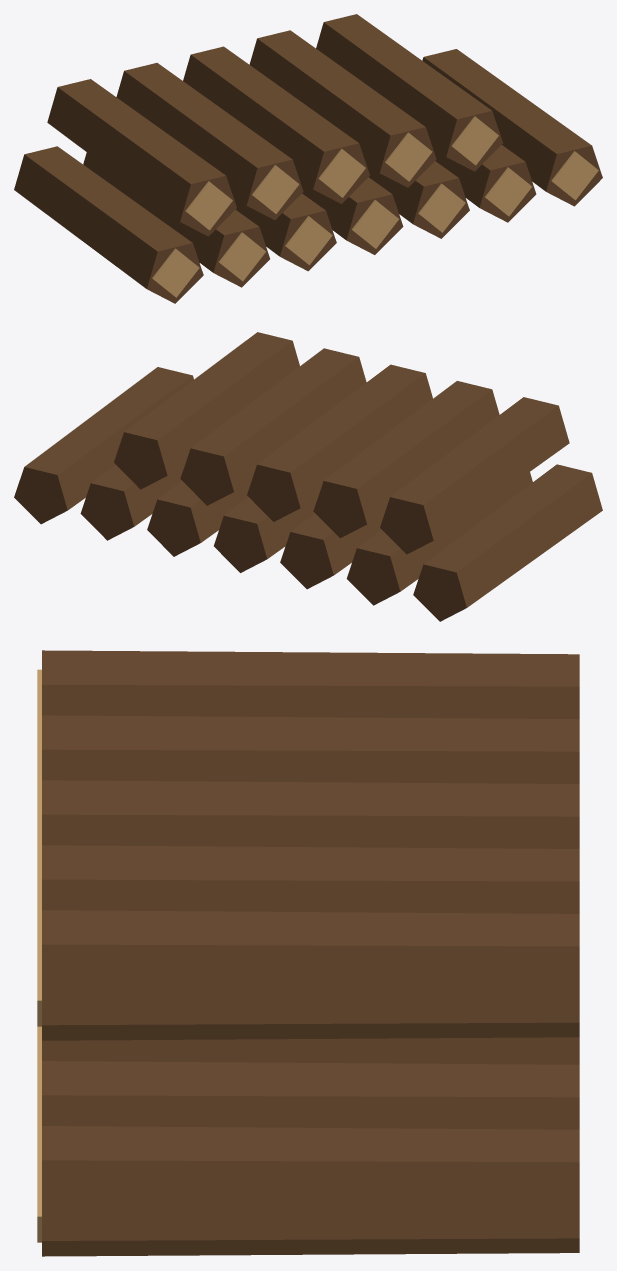
File: pile_firewood_1.glb
The picture shows the model from 3 angles, top to bottom: view 1: azimuth 30°, elevation 25°; view 2: azimuth 150°, elevation 25°; view 3: azimuth 270°, elevation 25°; orthographic projection. The views are drawn at different scales.
Visible parts, largest first — view 1: pile_firewood_1; view 2: pile_firewood_1; view 3: pile_firewood_1.
Part boxes in pixels (<box>): pile_firewood_1: <box>14,14,602,303</box>; pile_firewood_1: <box>14,332,602,621</box>; pile_firewood_1: <box>37,650,579,1256</box>.
Size of the model in its own units: 1.37 by 0.3328 by 0.706.
